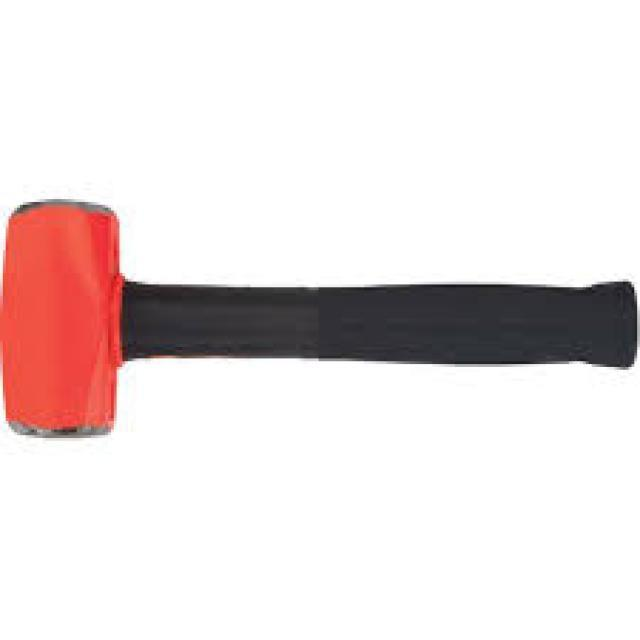Palu: (0, 178, 640, 444)
